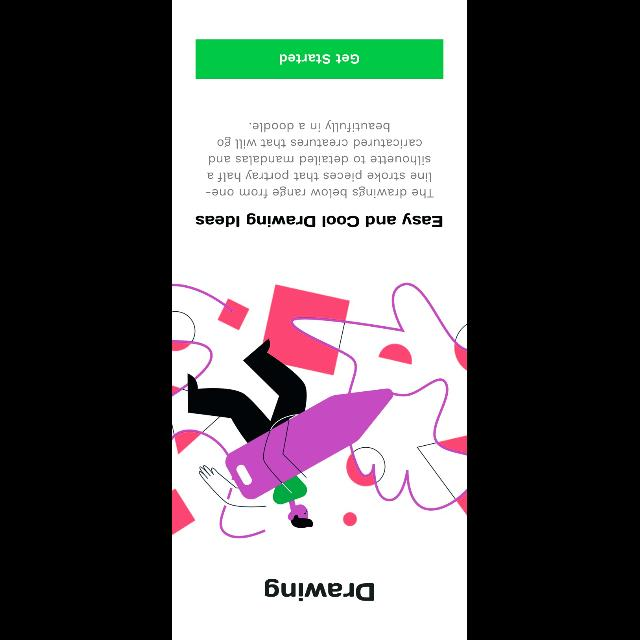image: (172, 282, 468, 538)
text: (206, 120, 434, 198), (195, 213, 442, 227), (266, 578, 374, 602)
textbutton: (196, 40, 444, 78)
